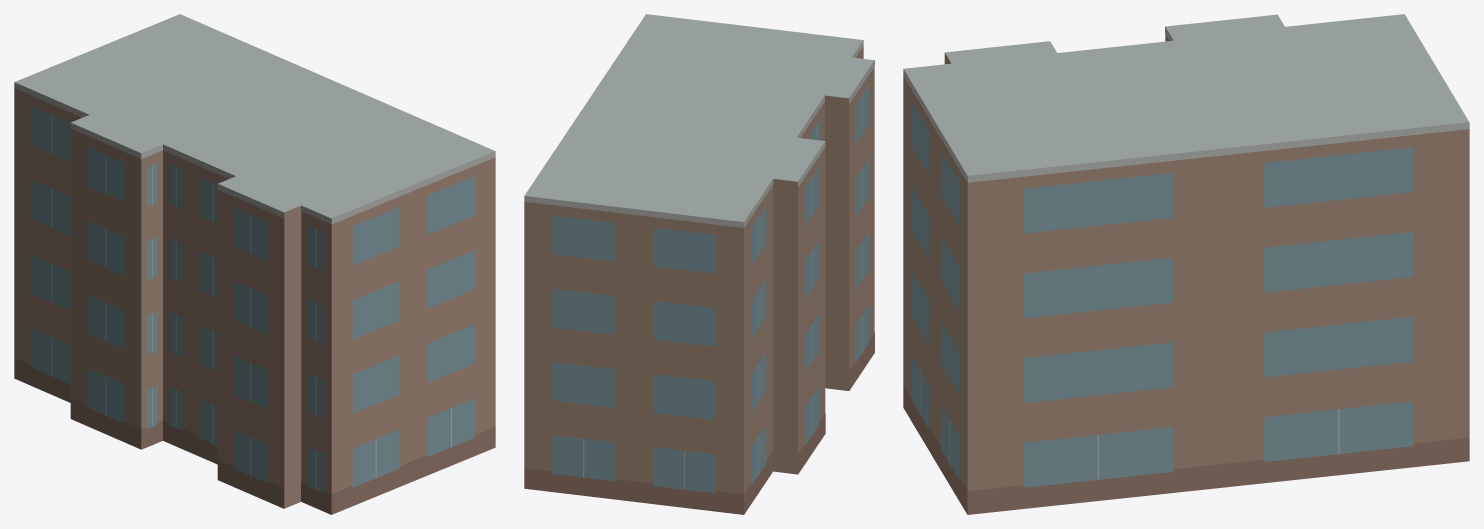
The model's file is residential-41759b32-f4c6-473b-9d52-206bb5f31387.glb.
3 views of the same model, side by side, from view 1: azimuth 30°, elevation 25°; view 2: azimuth 150°, elevation 25°; view 3: azimuth 270°, elevation 25° (orthographic). The views are drawn at different scales.
Visible parts, largest first — view 1: residential-41759b32-f4c6-473b-9d52-206bb5f31387.tmp; view 2: residential-41759b32-f4c6-473b-9d52-206bb5f31387.tmp; view 3: residential-41759b32-f4c6-473b-9d52-206bb5f31387.tmp.
Part boxes in pixels (x1,y1,x2,y2): residential-41759b32-f4c6-473b-9d52-206bb5f31387.tmp: [14, 14, 495, 514]; residential-41759b32-f4c6-473b-9d52-206bb5f31387.tmp: [524, 14, 874, 514]; residential-41759b32-f4c6-473b-9d52-206bb5f31387.tmp: [903, 14, 1469, 514].
Size of the model in its own units: 12.52 by 12.2 by 18.48.
